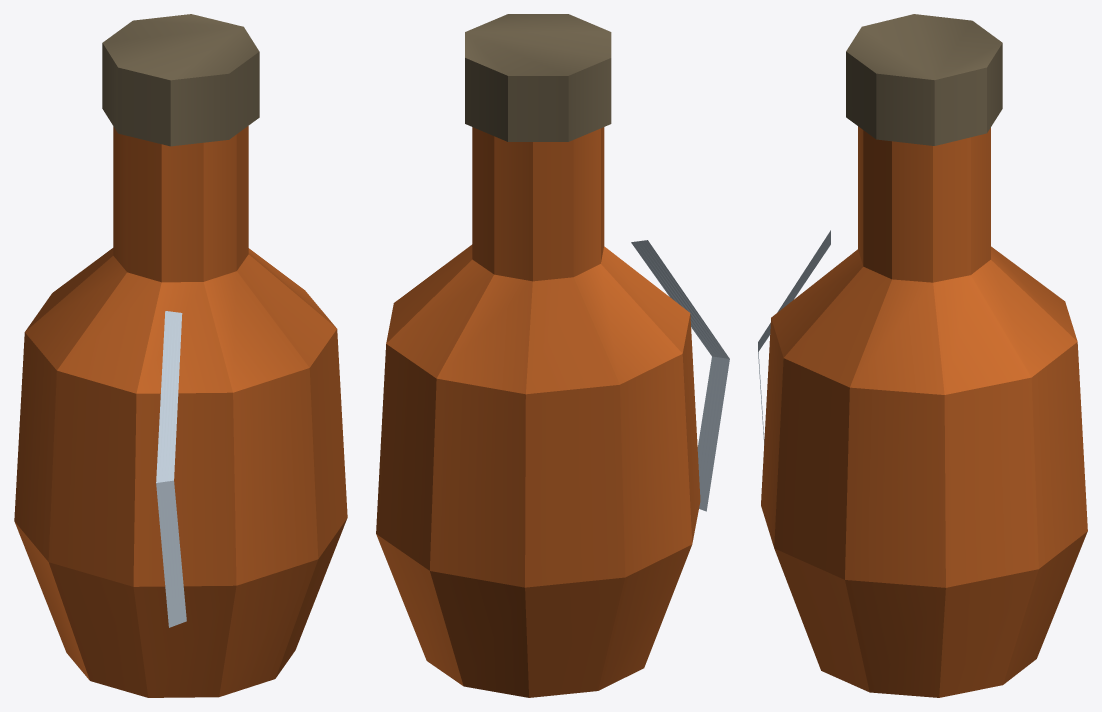
Rendered from 2051_PotionThrow_Overall_Projectile.fbx.
3 views of the same model, side by side, from view 1: azimuth 30°, elevation 25°; view 2: azimuth 150°, elevation 25°; view 3: azimuth 270°, elevation 25° (orthographic).
Visible parts, largest first — view 1: PART_PyroPotionGlassBody, PART_PyroPotionCork, PART_PyroPotionGlassGleam; view 2: PART_PyroPotionGlassBody, PART_PyroPotionCork, PART_PyroPotionGlassGleam; view 3: PART_PyroPotionGlassBody, PART_PyroPotionCork, PART_PyroPotionGlassGleam.
Part boxes in pixels (x1,y1,x2,y2): PART_PyroPotionGlassBody: (14,126,347,697); PART_PyroPotionCork: (102,14,259,146); PART_PyroPotionGlassGleam: (156,311,186,627); PART_PyroPotionGlassBody: (376,127,700,697); PART_PyroPotionCork: (465,14,611,141); PART_PyroPotionGlassGleam: (631,240,729,511); PART_PyroPotionGlassBody: (761,126,1087,697); PART_PyroPotionCork: (846,14,1002,145); PART_PyroPotionGlassGleam: (758,230,830,444).
Bounding box in the file's own units: 31.73 × 64 × 31.73.
